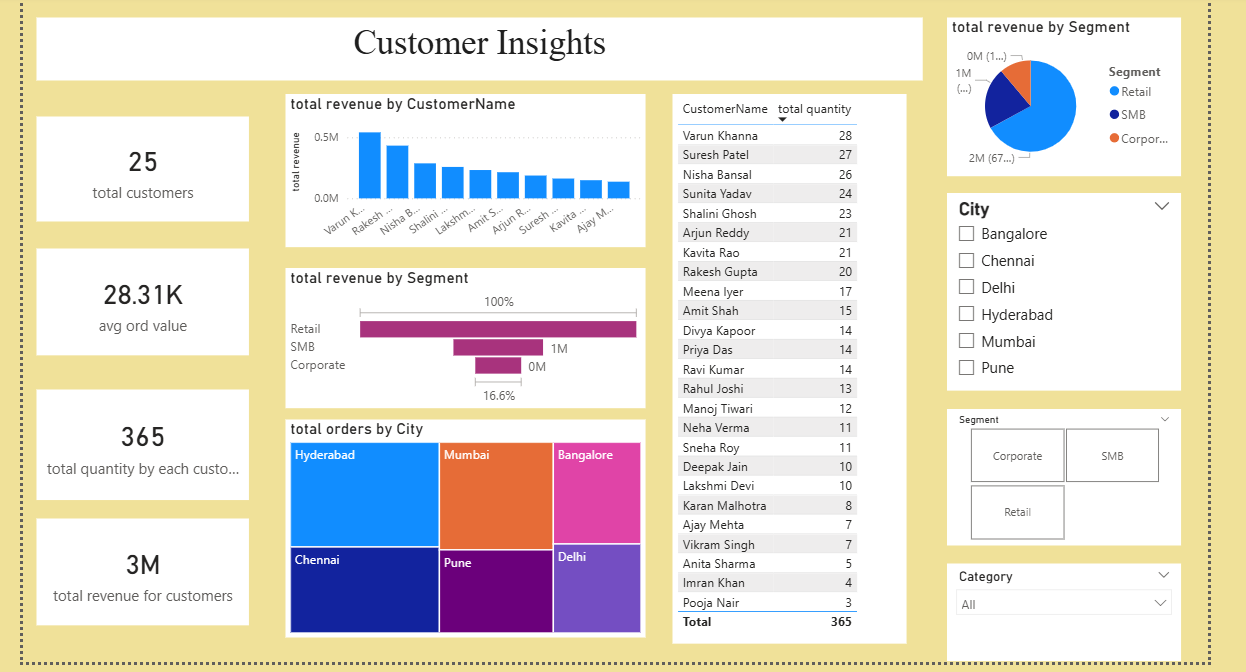

Layout of this report page (visuals, bound fields, positions):
{"tool":"powerbi","page":{"name":"Page 2","canvas":[1280,720],"ordinal":1},"visuals":[{"type":"card","fields":{"Values":["fact_sales.avg ord value"]},"box":[13.9,272.9,229,115.5],"z":0},{"type":"card","fields":{"Values":["fact_sales.total quantity by each customer"]},"box":[13.9,426.2,229,119.5],"z":1000},{"type":"card","fields":{"Values":["fact_sales.total cust"]},"box":[13.9,131.5,229,113.5],"z":2000},{"type":"slicer","fields":{"Values":["stores.City"]},"box":[997.9,213.1,253,213.1],"z":3000},{"type":"slicer","fields":{"Values":["customers.Segment"]},"box":[997.9,446.1,253,147.4],"z":4000},{"type":"slicer","fields":{"Values":["products.Category"]},"box":[997.9,613.5,253,105.6],"z":5000},{"type":"funnel","fields":{"Category":["customers.Segment"],"Y":["fact_sales.total revenue"]},"box":[282.8,294.8,388.4,151.4],"z":6000},{"type":"card","fields":{"Values":["fact_sales.total revenue for customers"]},"box":[13.9,565.7,229,115.5],"z":7000},{"type":"columnChart","fields":{"Category":["customers.CustomerName"],"Y":["fact_sales.total revenue"]},"box":[282.8,107.6,388.4,165.3],"z":8000},{"type":"treemap","fields":{"Group":["customers.City"],"Values":["fact_sales.total orders"]},"box":[282.8,458.1,388.4,235],"z":9000},{"type":"tableEx","fields":{"Values":["customers.CustomerName","fact_sales.total quantity"]},"box":[701.1,107.6,253,593.5],"z":10000},{"type":"textbox","box":[14.6,24.3,957,68],"z":11000},{"type":"pieChart","fields":{"Category":["customers.Segment"],"Y":["fact_sales.total revenue"]},"box":[997.9,23.9,253,171.3],"z":12000}]}

Visuals, with their boxes on the page's 1280x720 design canvas (x1, y1, x2, y2). These are canvas units, not pixel positions in the 1246x672 screenshot, which may show the page scaled, cropped or inside an application window:
card - fact_sales.avg ord value: [14,273,243,388]
card - fact_sales.total quantity by each customer: [14,426,243,546]
card - fact_sales.total cust: [14,132,243,245]
slicer - stores.City: [998,213,1251,426]
slicer - customers.Segment: [998,446,1251,594]
slicer - products.Category: [998,614,1251,719]
funnel - customers.Segment x fact_sales.total revenue: [283,295,671,446]
card - fact_sales.total revenue for customers: [14,566,243,681]
columnChart - customers.CustomerName x fact_sales.total revenue: [283,108,671,273]
treemap - customers.City x fact_sales.total orders: [283,458,671,693]
tableEx - customers.CustomerName x fact_sales.total quantity: [701,108,954,701]
textbox: [15,24,972,92]
pieChart - customers.Segment x fact_sales.total revenue: [998,24,1251,195]
